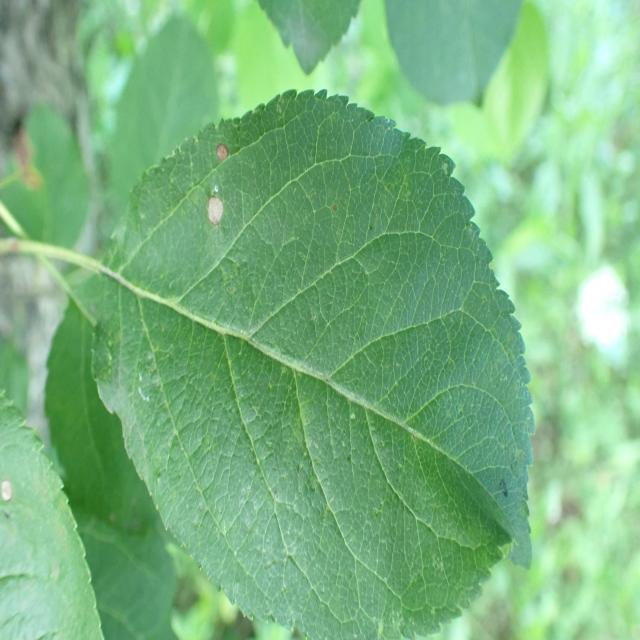Black Rot: (192, 185, 231, 272), (207, 127, 239, 183)
